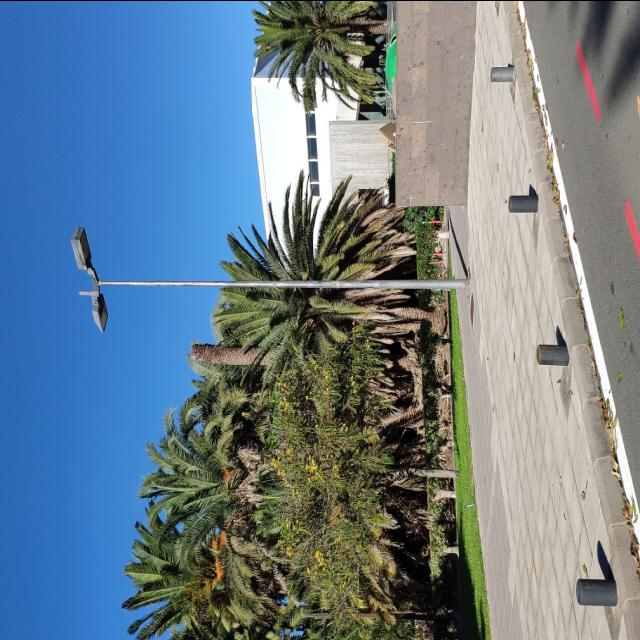Palm-Trees: (216, 177, 434, 413), (253, 0, 389, 94)
